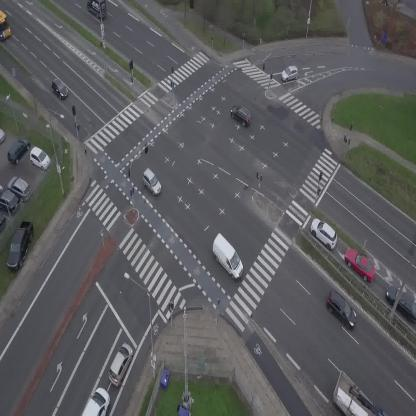bus: (0, 10, 11, 40)
car: (340, 242, 382, 286), (321, 288, 363, 330), (103, 340, 137, 388), (305, 214, 343, 252), (137, 167, 166, 197), (82, 387, 110, 416), (226, 101, 256, 128), (48, 77, 72, 101), (279, 64, 300, 83)
lorry: (320, 369, 390, 416), (203, 232, 251, 282), (87, 0, 107, 18)
